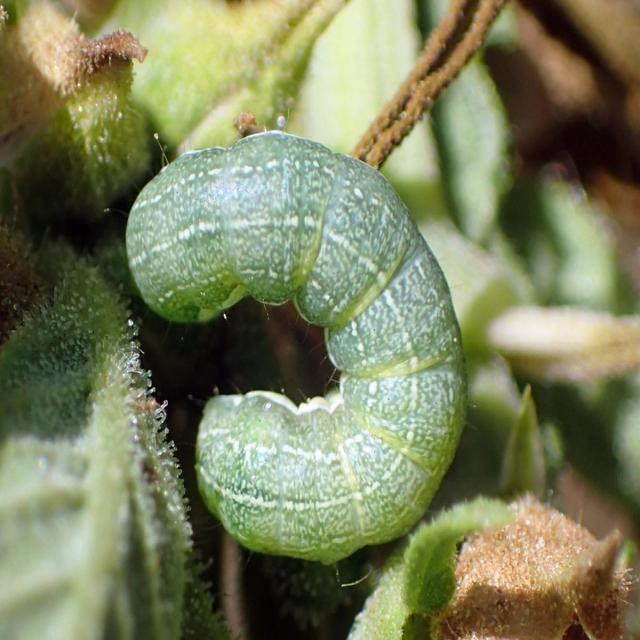BeetArmyWorm-Larva-: (124, 134, 476, 558)
